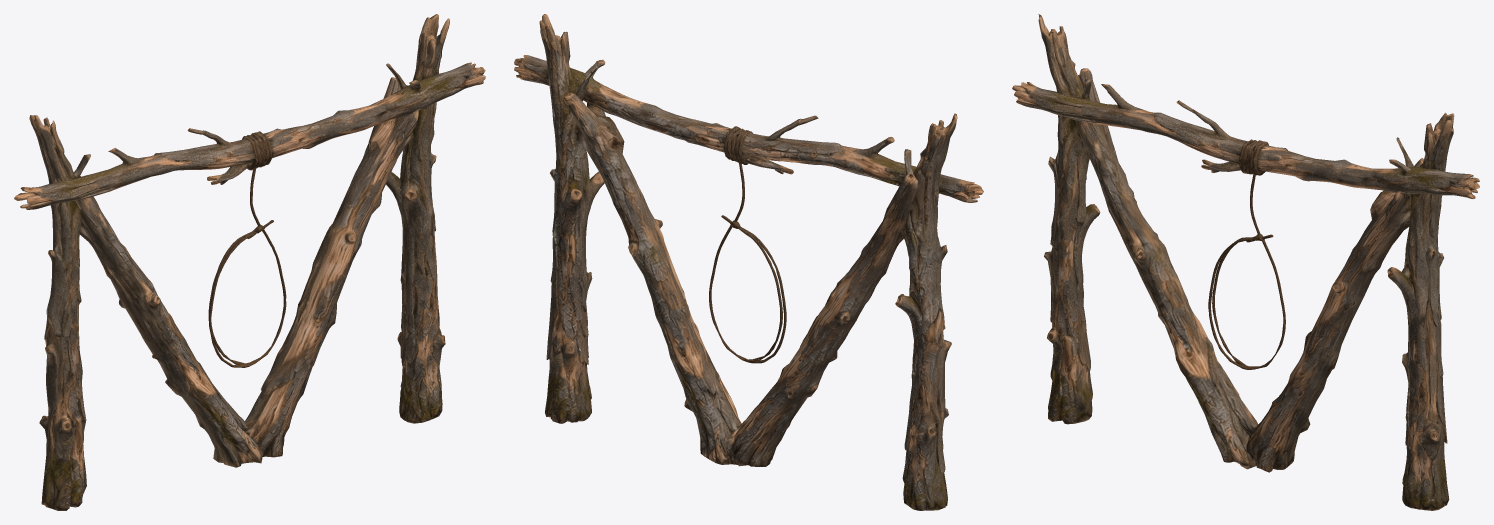
Rendered from simple_snare.glb.
3 views of the same model, side by side, from view 1: azimuth 30°, elevation 25°; view 2: azimuth 150°, elevation 25°; view 3: azimuth 330°, elevation 25° (orthographic).
Visible parts, largest first — view 1: SimpleSnare; view 2: SimpleSnare; view 3: SimpleSnare.
Part boxes in pixels (x1=…): SimpleSnare: x1=14, y1=14, x2=485, y2=510; SimpleSnare: x1=514, y1=14, x2=983, y2=510; SimpleSnare: x1=1012, y1=14, x2=1479, y2=510.
Size of the model in its own units: 0.6224 by 0.5 by 0.0747.
1 material, 1 textured.
